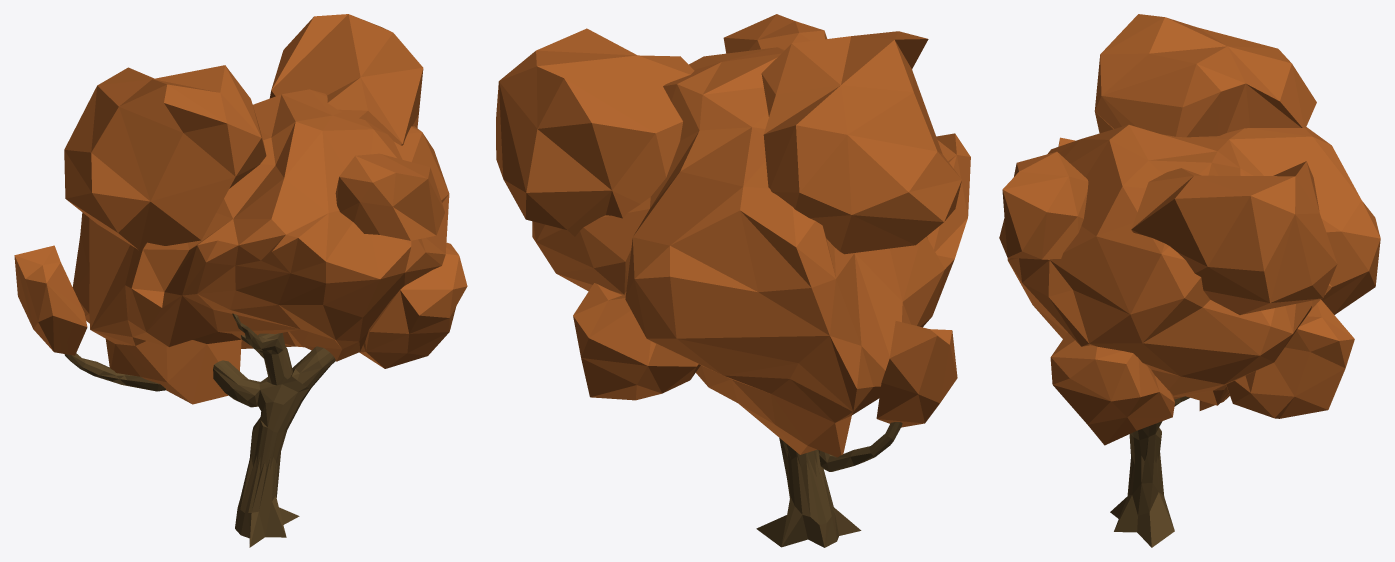
The model's file is roundTree1.fbx.
3 views of the same model, side by side, from view 1: azimuth 30°, elevation 25°; view 2: azimuth 150°, elevation 25°; view 3: azimuth 270°, elevation 25° (orthographic). The views are drawn at different scales.
Parts seen in each view (by area): view 1: Tree1; view 2: Tree1; view 3: Tree1.
Boxes of the visible parts, x1,y1,x2,y2 form: Tree1: [14, 14, 467, 547]; Tree1: [496, 14, 970, 547]; Tree1: [999, 14, 1380, 547].
Bounding box in the file's own units: 522 × 585 × 432.
